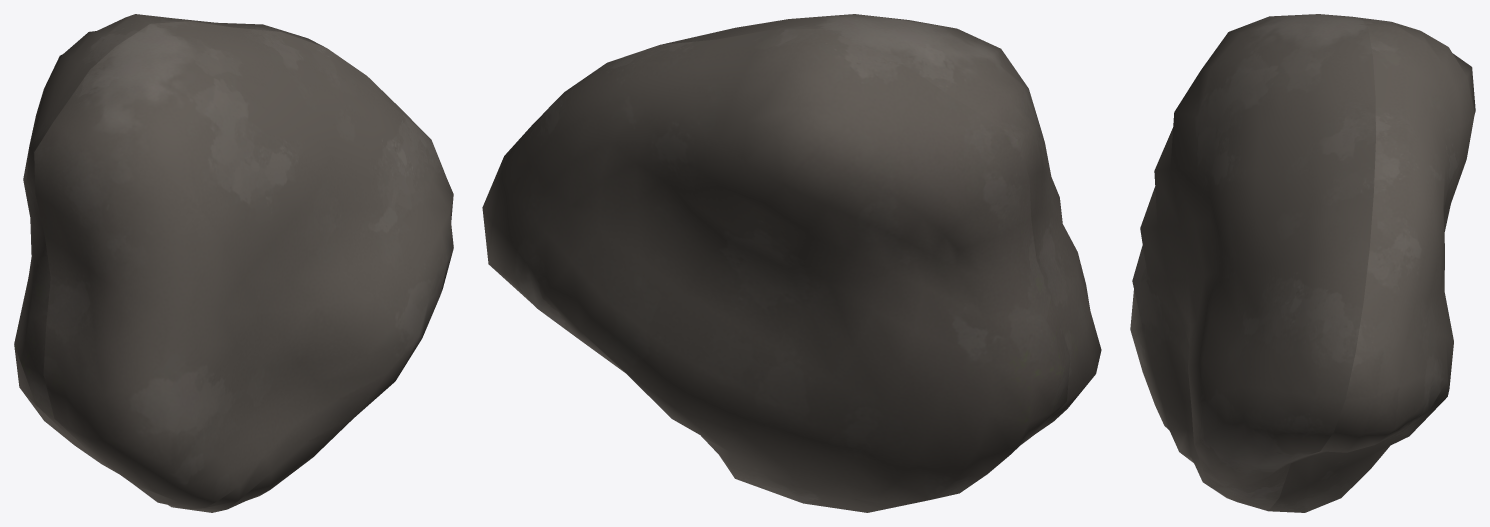
File: Rock4.fbx
3 renders of one model, left to right at view 1: azimuth 30°, elevation 25°; view 2: azimuth 150°, elevation 25°; view 3: azimuth 270°, elevation 25°, orthographic. The views are drawn at different scales.
Visible parts, largest first — view 1: Cube.002; view 2: Cube.002; view 3: Cube.002.
Part boxes in pixels (x1=…): Cube.002: x1=14, y1=14, x2=453, y2=512; Cube.002: x1=482, y1=14, x2=1101, y2=512; Cube.002: x1=1130, y1=14, x2=1475, y2=512.
Size of the model in its own units: 276 by 256 by 176.
Materials: 1 (1 with a texture image).
